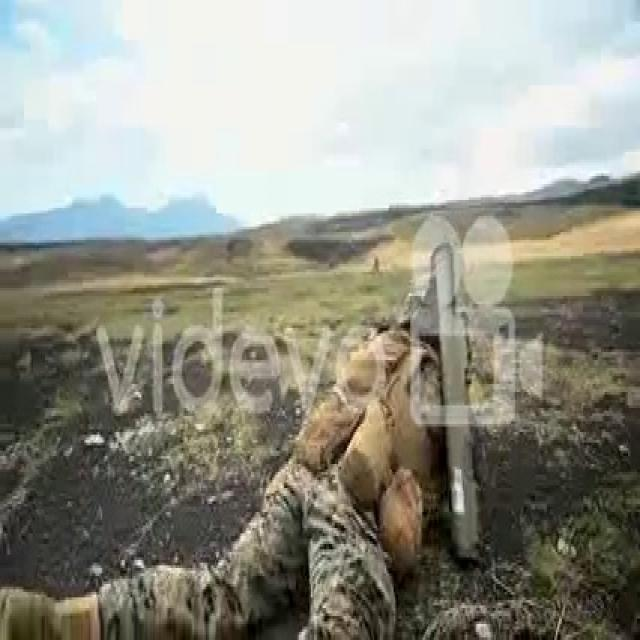bazooka: (430, 236, 482, 578)
